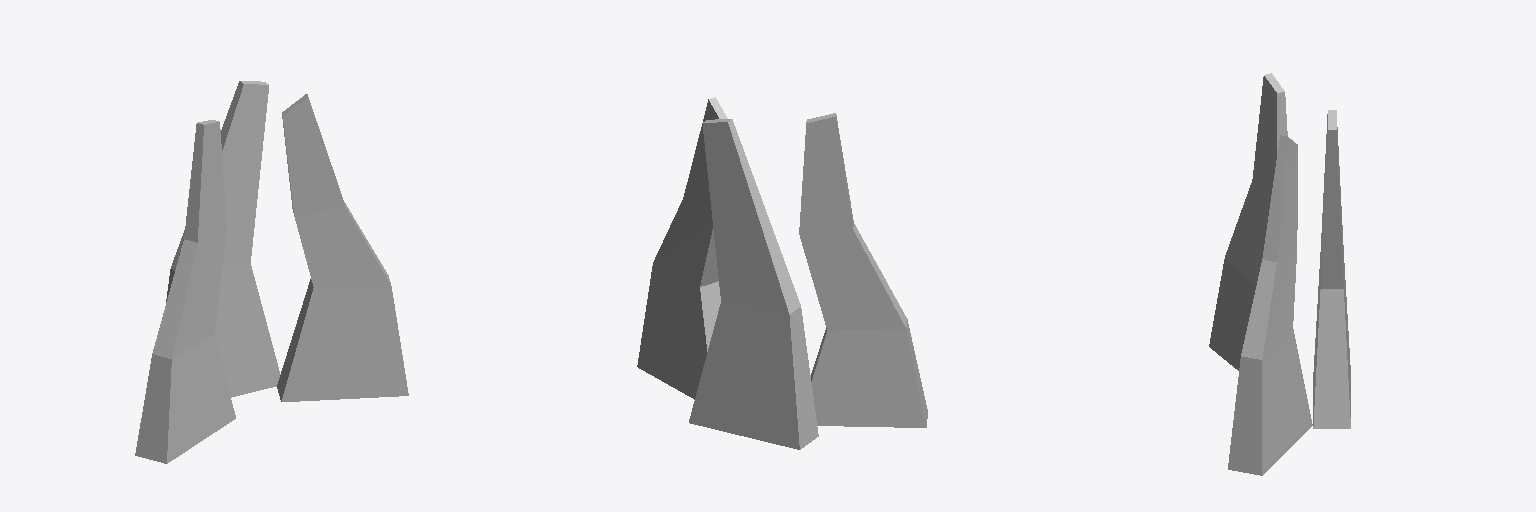
The model's file is grassStrand.obj.
3 views of the same model, side by side, from view 1: azimuth 30°, elevation 25°; view 2: azimuth 150°, elevation 25°; view 3: azimuth 270°, elevation 25° (orthographic).
Parts seen in each view (by area): view 1: Cube.001; view 2: Cube.001; view 3: Cube.001.
Part boxes in pixels (x1,y1,x2,y2): Cube.001: (135,81,408,463); Cube.001: (637,97,927,449); Cube.001: (1209,73,1350,475).
Bounding box in the file's own units: 0.3004 × 0.312 × 0.1324.